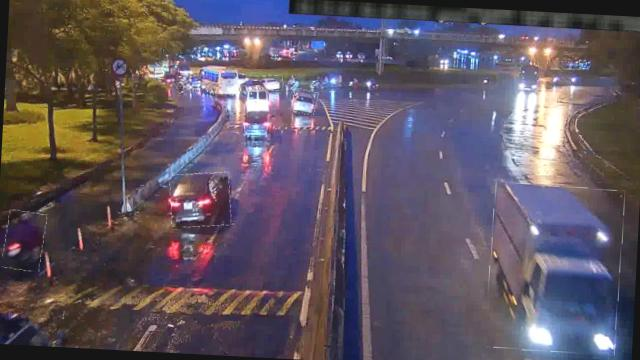Bike: (2, 209, 45, 272)
Car: (168, 170, 232, 229), (291, 88, 317, 114), (259, 75, 283, 92)
Truck: (485, 182, 624, 355)
